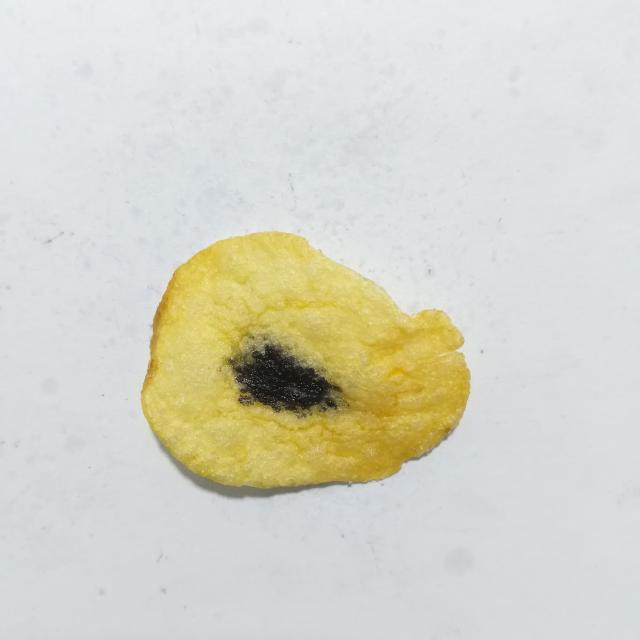chip: (142, 232, 470, 488)
damaged: (228, 336, 340, 417)
